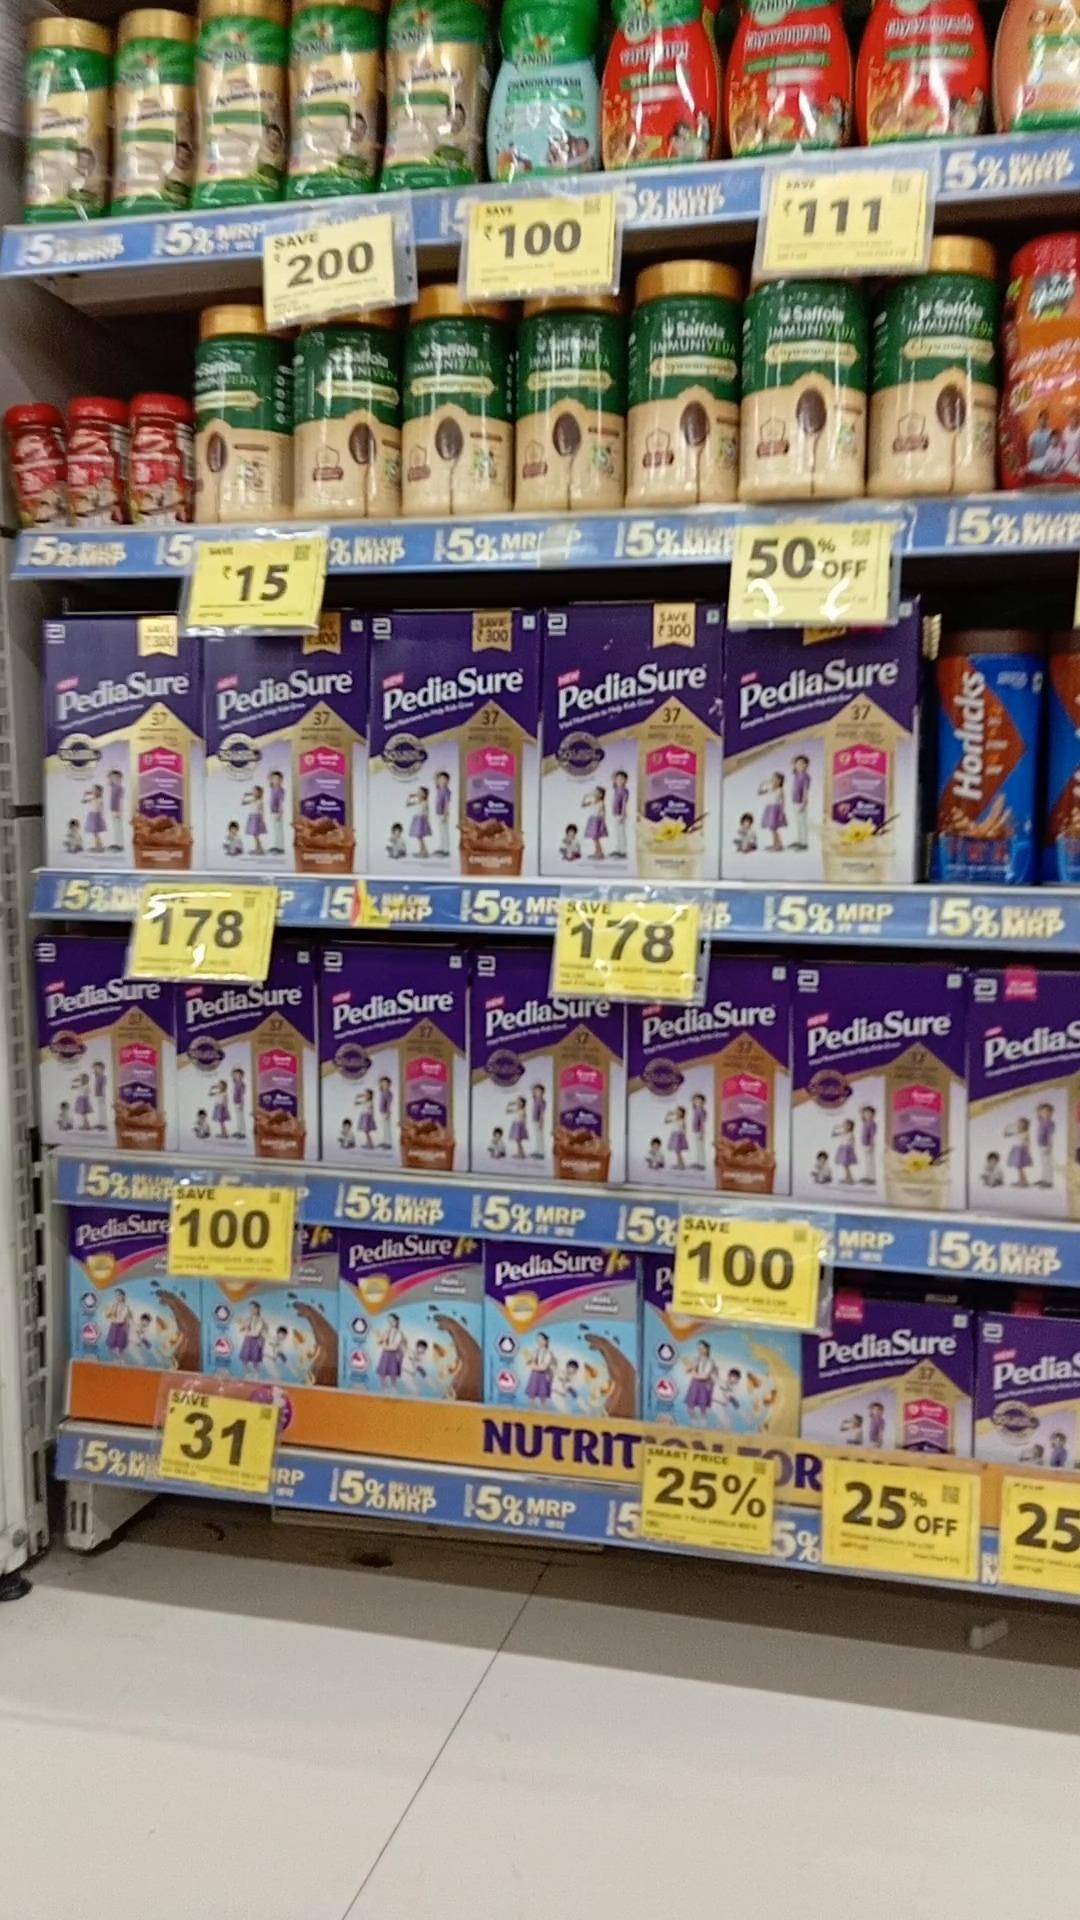HORLICK_CHOCOLATE_500_G_JAR: (931, 629, 1036, 885)
PEDIASURE_7_PLUS_CHOCOLATE_400_G_PACK: (483, 1241, 637, 1418), (339, 1229, 477, 1399), (70, 1208, 191, 1370), (203, 1280, 330, 1385)
PEDIASURE_CHOCOLATE_500_G_PACK: (369, 613, 537, 877), (202, 632, 363, 874), (42, 620, 193, 869), (475, 953, 621, 1180), (322, 948, 460, 1168), (632, 998, 785, 1195), (36, 942, 166, 1150), (173, 981, 310, 1159)
PEDIASURE_VANILLA_500_G_PACK: (727, 628, 913, 885), (539, 611, 715, 874), (798, 968, 953, 1207), (967, 971, 1080, 1215)
